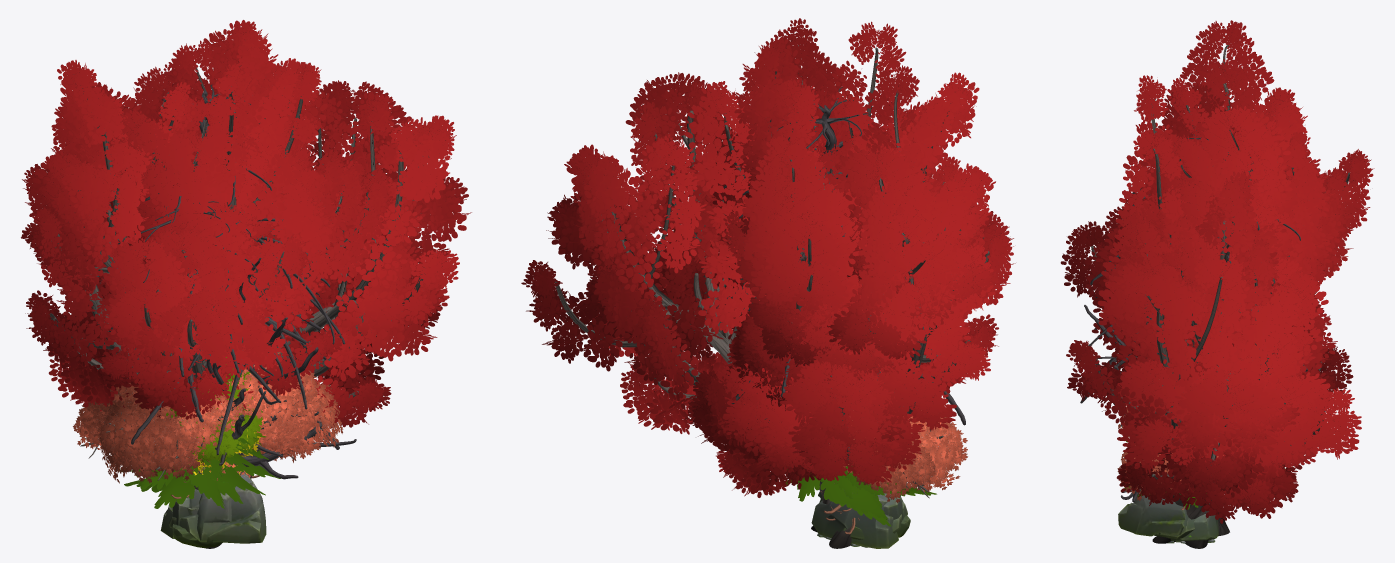
The model's file is nature.glb.
The picture shows the model from 3 angles, left to right: view 1: azimuth 30°, elevation 25°; view 2: azimuth 150°, elevation 25°; view 3: azimuth 270°, elevation 25°; orthographic projection. The views are drawn at different scales.
Parts seen in each view (by area): view 1: TwistedTree_2, TwistedTree_1, TwistedTree_3, TwistedTree_4, TwistedTree_5, MapleTree_3, MapleTree_5, MapleTree_2, Rock_Medium_3, Pine_2, DeadTree_2, DeadTree_4 (+8 smaller); view 2: TwistedTree_1, TwistedTree_2, TwistedTree_4, TwistedTree_3, TwistedTree_5, Rock_Medium_2, MapleTree_3, Pine_5, MapleTree_2, DeadTree_5, Pine_2; view 3: TwistedTree_1, TwistedTree_4, TwistedTree_2, TwistedTree_3, TwistedTree_5, Rock_Medium_3, Rock_Medium_2.
Part boxes in pixels (bbox=[...]): TwistedTree_2: bbox=[21, 60, 321, 489]; TwistedTree_1: bbox=[187, 60, 471, 548]; TwistedTree_3: bbox=[48, 92, 396, 419]; TwistedTree_4: bbox=[65, 20, 368, 417]; TwistedTree_5: bbox=[91, 99, 347, 324]; MapleTree_3: bbox=[99, 348, 343, 483]; MapleTree_5: bbox=[130, 352, 318, 483]; MapleTree_2: bbox=[73, 389, 249, 453]; Rock_Medium_3: bbox=[172, 473, 266, 548]; Pine_2: bbox=[124, 427, 265, 508]; DeadTree_2: bbox=[202, 245, 356, 479]; DeadTree_4: bbox=[188, 203, 345, 455]; TwistedTree_1: bbox=[521, 72, 852, 548]; TwistedTree_2: bbox=[723, 18, 1015, 441]; TwistedTree_4: bbox=[712, 37, 939, 489]; TwistedTree_3: bbox=[685, 99, 1013, 497]; TwistedTree_5: bbox=[711, 123, 926, 410]; Rock_Medium_2: bbox=[811, 497, 898, 548]; MapleTree_3: bbox=[829, 410, 967, 492]; Pine_5: bbox=[787, 466, 926, 518]; MapleTree_2: bbox=[854, 432, 935, 503]; DeadTree_5: bbox=[716, 87, 965, 425]; Pine_2: bbox=[785, 475, 936, 526]; TwistedTree_1: bbox=[1066, 171, 1361, 548]; TwistedTree_4: bbox=[1082, 84, 1374, 380]; TwistedTree_2: bbox=[1102, 20, 1320, 374]; TwistedTree_3: bbox=[1060, 163, 1353, 513]; TwistedTree_5: bbox=[1113, 166, 1352, 379]; Rock_Medium_3: bbox=[1118, 495, 1188, 536]; Rock_Medium_2: bbox=[1168, 514, 1218, 540].
Size of what is drawn, in the model's own units: 17.96 by 18.95 by 12.13.
19 materials, 19 textured.
